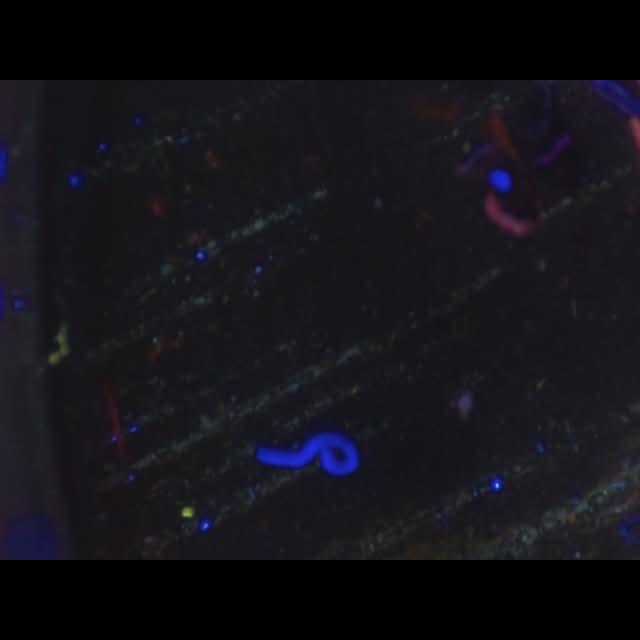Fibre: (44, 316, 72, 368)
microbeads: (180, 504, 196, 520)
